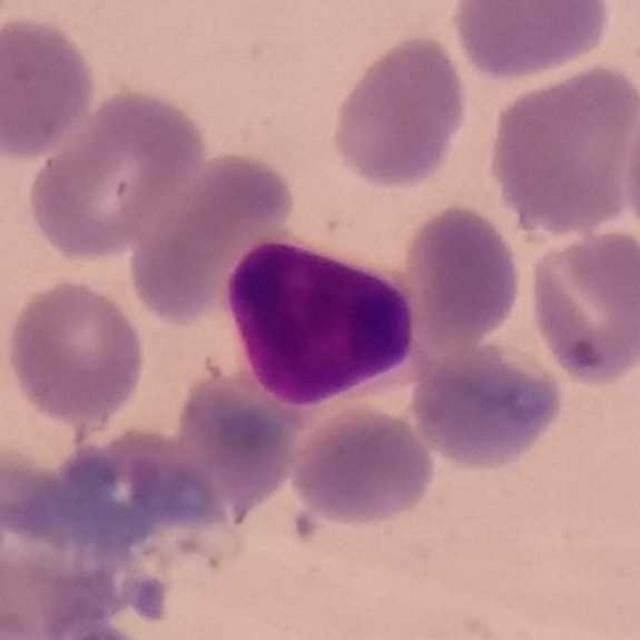Lymphocyte: (202, 226, 424, 424)
RBC: (23, 83, 210, 264), (124, 147, 300, 326), (484, 59, 640, 238), (327, 30, 472, 193), (2, 274, 150, 427), (407, 340, 568, 474), (522, 222, 640, 390), (286, 402, 440, 530), (399, 200, 526, 348), (0, 480, 112, 639), (0, 12, 100, 163), (172, 372, 300, 489), (446, 0, 616, 83)
